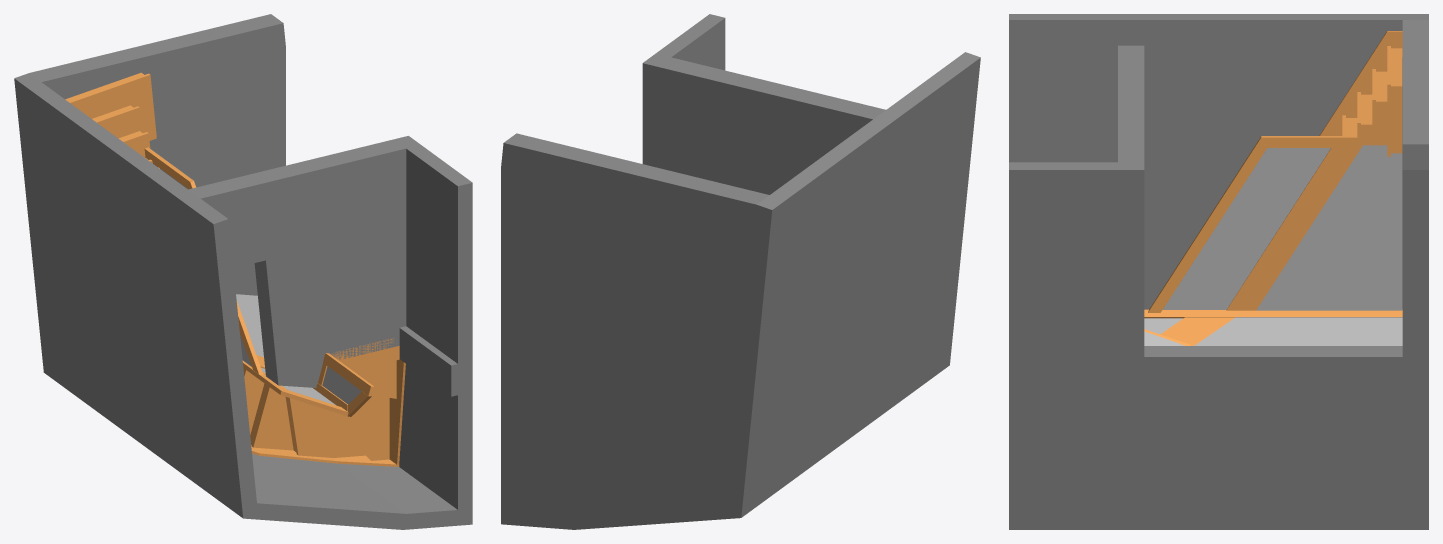
Rendered from лестница на металлокаркасевсборе.obj.
3 views of the same model, side by side, from view 1: azimuth 30°, elevation 25°; view 2: azimuth 150°, elevation 25°; view 3: azimuth 270°, elevation 25° (orthographic). The views are drawn at different scales.
Bounding box in the file's own units: 3.47 × 4.68 × 4.63.
